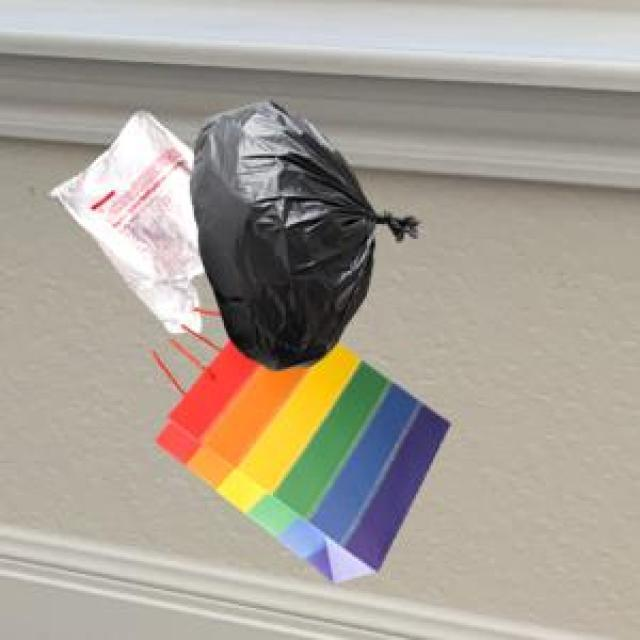miscellaneous trash: (186, 98, 414, 367)
paper: (152, 337, 446, 578)
